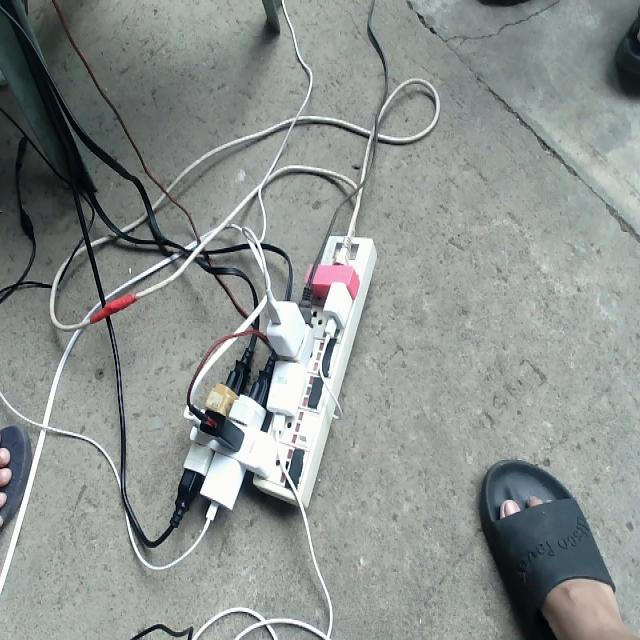-: (162, 235, 376, 534)
